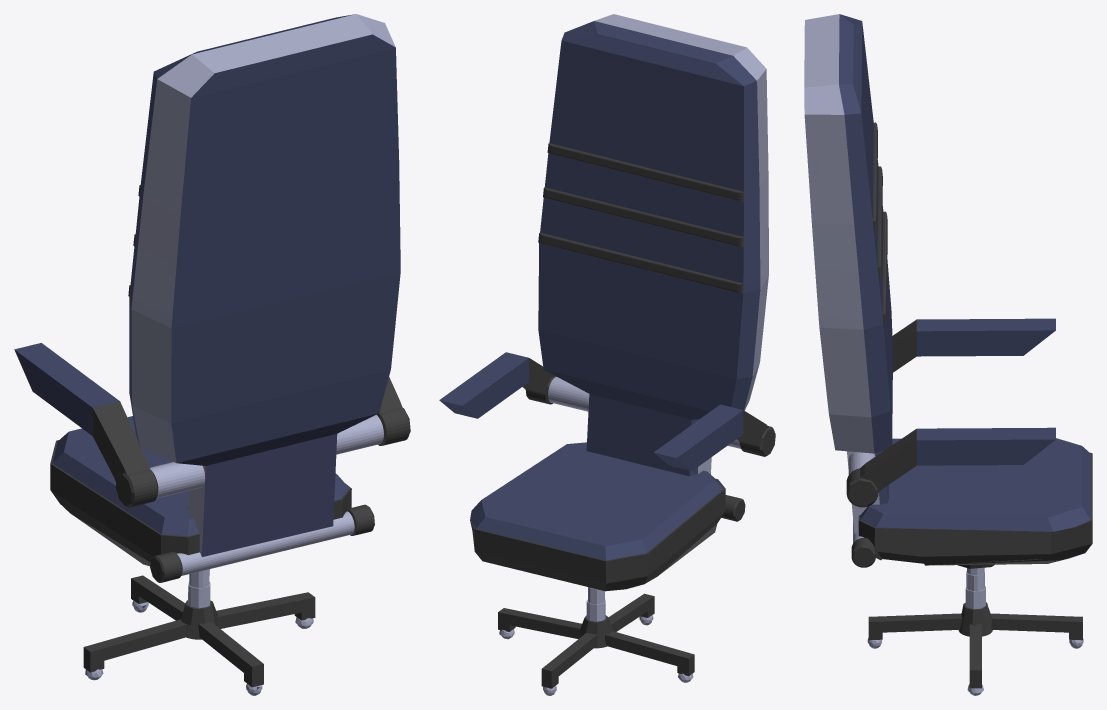
File: Kursi.fbx
3 views of the same model, side by side, from view 1: azimuth 30°, elevation 25°; view 2: azimuth 150°, elevation 25°; view 3: azimuth 270°, elevation 25° (orthographic). The views are drawn at different scales.
Parts seen in each view (by area): view 1: Kursi; view 2: Kursi; view 3: Kursi.
Part boxes in pixels (x1,y1,x2,y2): Kursi: (14,14,410,695); Kursi: (439,14,775,695); Kursi: (804,14,1092,695).
Bounding box in the file's own units: 28.27 × 65.4 × 28.51.
